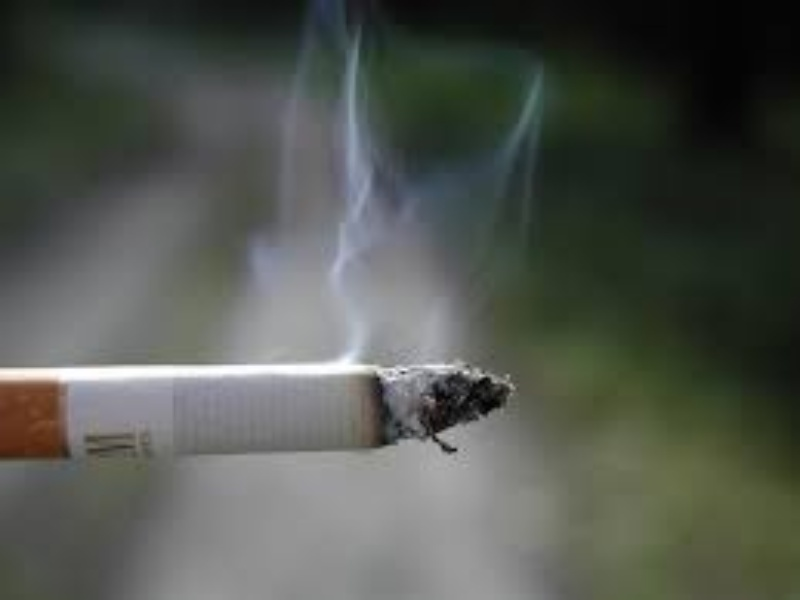smoke: (287, 134, 486, 363)
